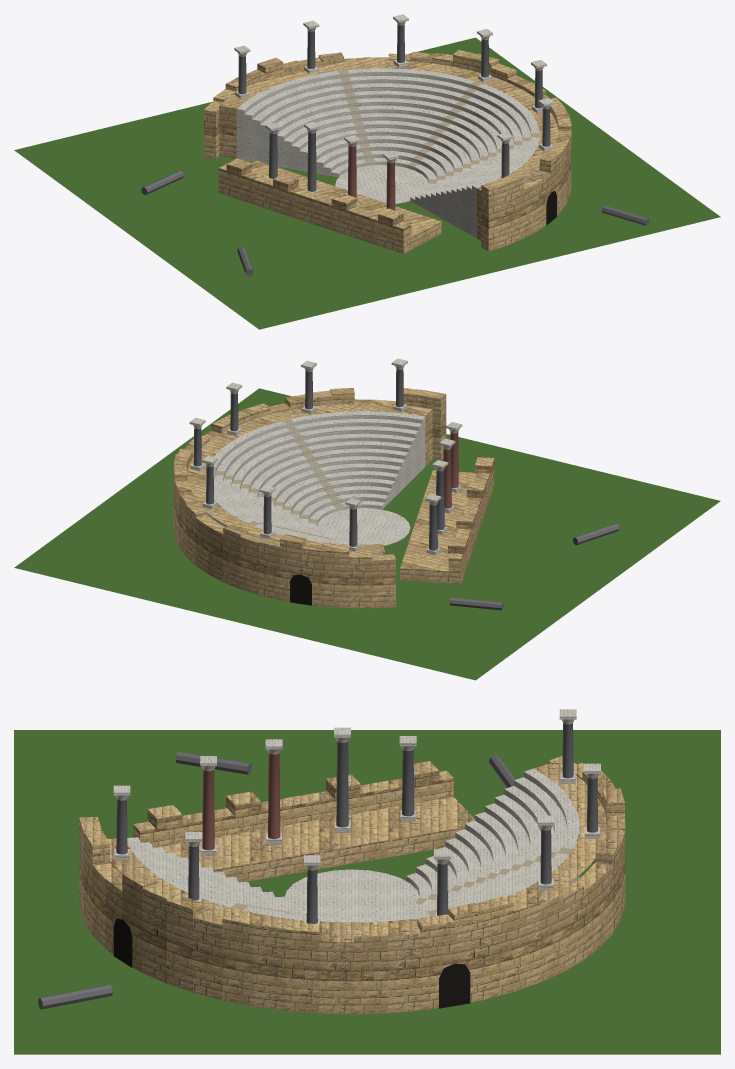
Rendered from roman-theatre.glb.
3 views of the same model, one above another, from view 1: azimuth 30°, elevation 25°; view 2: azimuth 150°, elevation 25°; view 3: azimuth 270°, elevation 25° (orthographic). The views are drawn at different scales.
Visible parts, largest first — view 1: RomanTheatre; view 2: RomanTheatre; view 3: RomanTheatre.
Boxes of the visible parts, <box> form: RomanTheatre: <box>14,14,720,329</box>; RomanTheatre: <box>14,358,720,680</box>; RomanTheatre: <box>14,709,720,1054</box>.
Bounding box in the file's own units: 50 × 10.07 × 46.
Materials: 3 (3 with a texture image).
